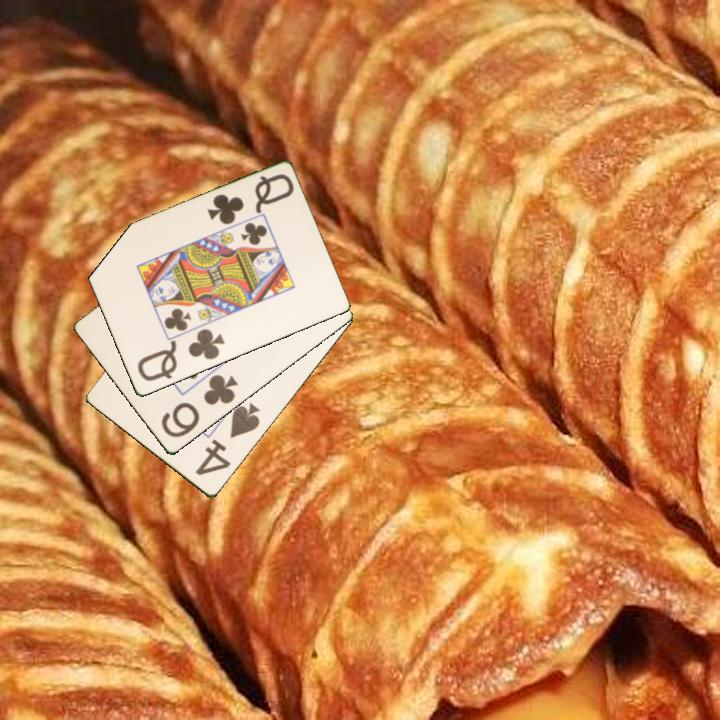4s: (192, 400, 263, 479)
6c: (157, 371, 241, 441)
Qc: (134, 325, 228, 385), (203, 170, 297, 228)
